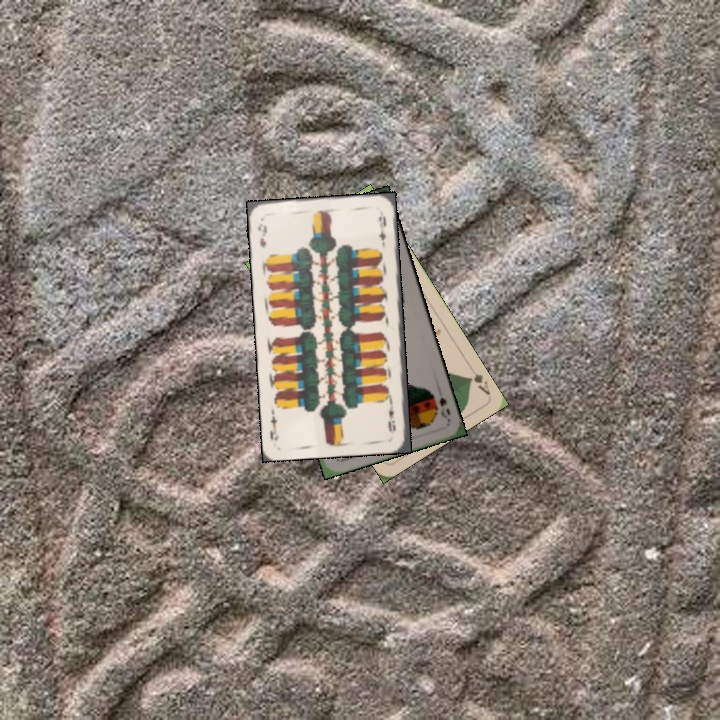E9: (385, 396, 398, 436), (254, 220, 270, 250)
GA: (464, 369, 493, 398)
SO: (435, 393, 453, 423)
